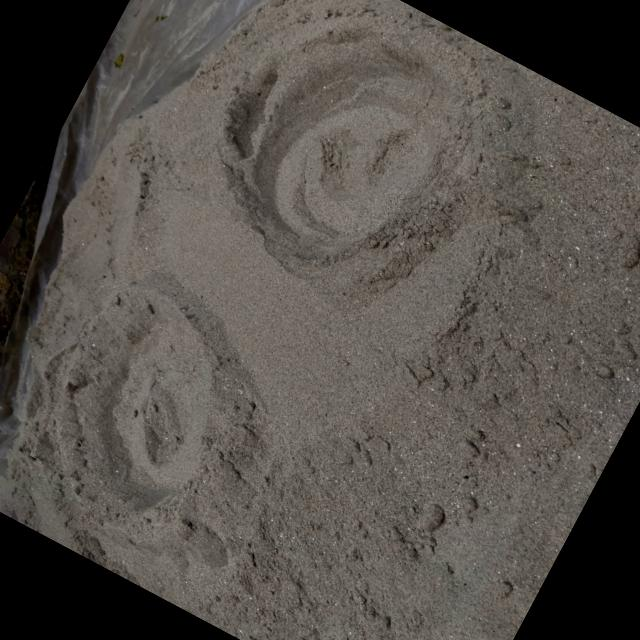C20: (231, 69, 437, 257), (69, 286, 215, 509)
